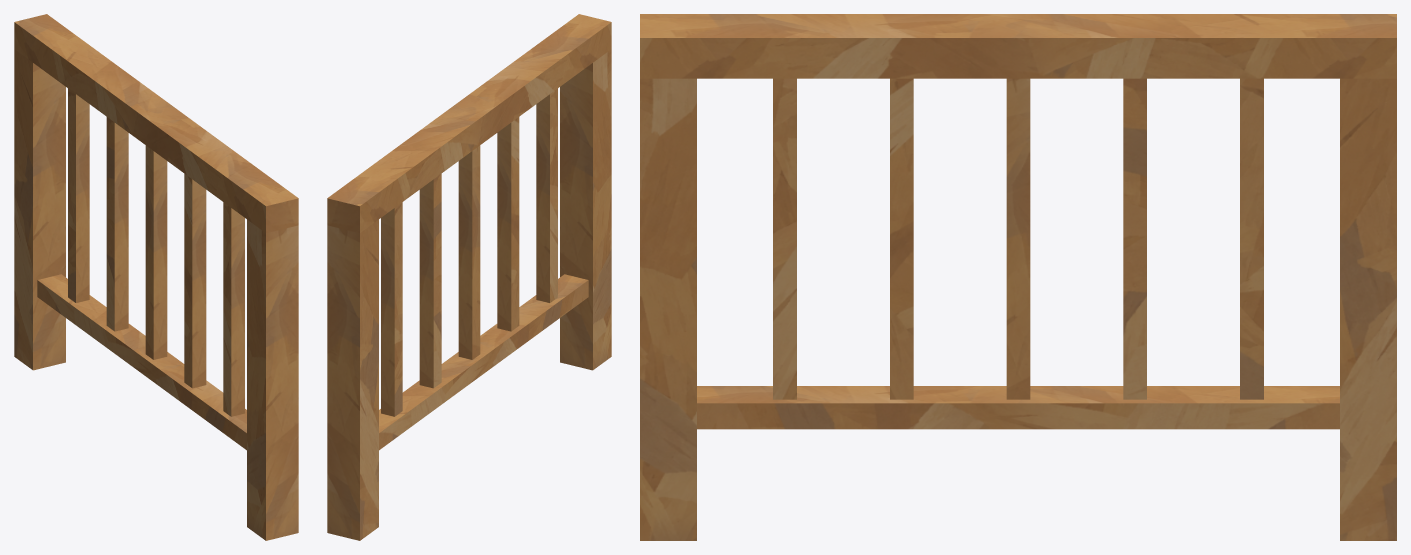
File: PorchGuard.fbx
The picture shows the model from 3 angles, left to right: view 1: azimuth 30°, elevation 25°; view 2: azimuth 150°, elevation 25°; view 3: azimuth 270°, elevation 25°; orthographic projection. The views are drawn at different scales.
Parts seen in each view (by area): view 1: PorchGuard; view 2: PorchGuard; view 3: PorchGuard.
Boxes of the visible parts, x1,y1,x2,y2 form: PorchGuard: (14,14,298,540); PorchGuard: (327,14,611,540); PorchGuard: (640,14,1396,540).
Size of the model in its own units: 0.09 by 0.88 by 1.2.
